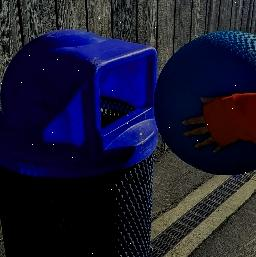algae: (156, 26, 256, 176)
